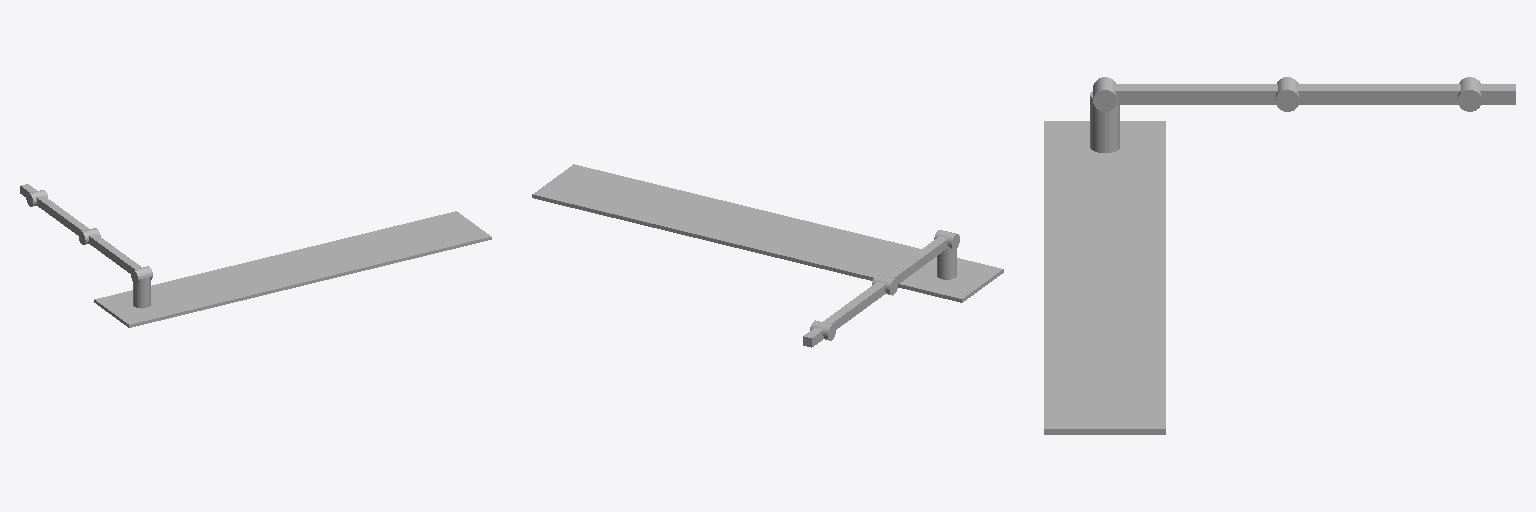
The robot description file, URDF, robot "arm":
<robot name="arm">
	<link name="world"/>
	<link name="base_link">
		<inertial>
			<mass value="1.0"/>
			<origin rpy="0 0 0" xyz="0 0 0.025"/>
			<inertia ixx="0.0027" iyy="0.0027" izz="0.005" ixy="0" ixz="0" iyz="0"/>
		</inertial>	
		<visual>
			<geometry>
				<box size="1.2 0.2 0.01"/>
			</geometry> 
			<material name="silver">
				<color rgba="0.75 0.75 0.75 1"/>
			</material>
			<origin rpy="0 0 0" xyz="0.5 0 0"/> 
		</visual>
		<collision>
			<geometry>
				<box size="1.2 0.2 0.01"/>
			</geometry>
			<origin rpy="0 0 0" xyz="0.6 0 0"/> 
		</collision>
	</link>
	<joint name="fixed" type="fixed">
		<parent link="world"/>
		<child link="base_link"/>
	</joint>
	<link name="prismatic_base_arm">
		<inertial>
			<mass value="1.0"/>
			<origin rpy="0 0 0" xyz="0 0 0.025"/>
			<inertia ixx="0.0027" iyy="0.0027" izz="0.005" ixy="0" ixz="0" iyz="0"/>
		</inertial>	
		<visual>
			<geometry>
				<box size="0.01 0.01 0.01"/>
			</geometry> 
			<material name="silver">
				<color rgba="0.75 0.75 0.75 1"/>
			</material>
			<origin rpy="0 0 0" xyz="0 0 0"/> 
		</visual>
		<collision>
			<geometry>
				<box size="0.01 0.01 0.01"/>
			</geometry>
			<origin rpy="0 0 0" xyz="0 0 0"/> 
		</collision>
	</link>
	<joint name="bottom_prismatic_joint" type="prismatic">
		<limit velocity="1.0" effort="30.0" upper="1" lower="0"/>
		<axis xyz="1 0 0"/>
		<parent link="base_link"/>
		<child link="prismatic_base_arm"/>
		<origin rpy="0 0 0" xyz="0 0 0"/>
	</joint>
	<link name="torso">
		<inertial>
			<mass value="1.0"/>
			<origin rpy="0 0 0" xyz="0 0 0"/>
			<inertia ixx="0.02146" iyy="0.02146" izz="0.00125" ixy="0" ixz="0" iyz="0"/>
		</inertial>	
		<visual>		
			<geometry>
				<cylinder length="0.1" radius="0.025"/>
			</geometry>
			<material name="silver">
				<color rgba="0.75 0.75 0.75 1"/>
			</material>
			<origin rpy="0 0 0" xyz="0 0 -0.05"/>
		</visual>
		<collision>
			<geometry>
				<cylinder length="0.1" radius="0.025"/>
			</geometry>
			<origin rpy="0 0 0" xyz="0 0 -0.05"/>
		</collision>
	</link>
	<joint name="bottom_joint" type="revolute">
		<limit velocity="1.0" effort="30.0" upper="1.571" lower="-1.571"/>
		<axis xyz="0 0 1"/>
		<parent link="prismatic_base_arm"/>
		<child link="torso"/>
		<origin rpy="0 0 1.571" xyz="0 0 0.1"/>
	</joint>
	<link name="lower_arm">
		<inertial>
			<mass value="1.0"/>
			<origin rpy="0 0 0" xyz="0 0 0.05"/>
			<inertia ixx="0.01396" iyy="0.01396" izz="0.00125" ixy="0" ixz="0" iyz="0"/>
		</inertial>	
		<visual>
			<geometry>
				<cylinder length="0.05" radius="0.02"/>
			</geometry>
			<material name="silver"/>
			<origin rpy="0 0 0" xyz="0 0 0"/>
		</visual>
		<collision>
			<geometry>
				<cylinder length="0.1" radius="0.03"/>
			</geometry>
			<origin rpy="0 0 0" xyz="0 0 0"/>
		</collision>
	</link>
	<joint name="lower_arm_joint" type="revolute">
		<axis xyz="0 0 1"/>
		<limit velocity="1.0" effort="30.0" upper="3.14159" lower="0"/>
		<parent link="torso"/>
		<child link="lower_arm"/>
		<origin rpy="1.571 0 0" xyz="0 0 0"/>
	</joint>
	<link name="arm_connect_top">	
		<inertial>
			<mass value="1.0"/>
			<origin rpy="0 0 0" xyz="0 0 0"/>
			<inertia ixx="0.02146" iyy="0.02146" izz="0.00125" ixy="0" ixz="0" iyz="0"/>
		</inertial>	
		<visual>		
			<geometry>
				<box size="0.3 0.025 0.025"/>
			</geometry>
			<material name="silver">
				<color rgba="0.75 0.75 0.75 1"/>
			</material>
			<origin rpy="0 0 0" xyz="0.15 0 0"/>
		</visual>
		<collision>
			<geometry>
				<box size="0.3 0.025 0.025"/>
			</geometry>
			<origin rpy="0 0 0" xyz="0.15 0 0.3"/>
		</collision>
	</link>
	<joint name="link_12_arm_connect" type="fixed">
		<parent link="lower_arm"/>
		<child link="arm_connect_top"/>
	</joint>
	<link name="upper_arm">
		<inertial>
			<mass value="1.0"/>
			<origin rpy="0 0 0" xyz="0 0 0.05"/>
			<inertia ixx="0.01396" iyy="0.01396" izz="0.00125" ixy="0" ixz="0" iyz="0"/>
		</inertial>	
		<visual>
			<geometry>
				<cylinder length="0.05" radius="0.02"/>
			</geometry>
			<material name="silver"/>
			<origin rpy="0 0 0" xyz="0 0 0"/>
		</visual>
		<collision>
			<geometry>
				<cylinder length="0.05" radius="0.02"/>
			</geometry>
			<origin rpy="0 0 0" xyz="0 0 0"/>
		</collision>
	</link>
	<joint name="upper_arm_joint" type="revolute">
		<axis xyz="0 0 1"/>
		<limit velocity="1.0" effort="30.0" upper="1.571" lower="-1.571"/>
		<parent link="arm_connect_top"/>
		<child link="upper_arm"/>
		<origin rpy="0 0 0" xyz="0.3 0 0"/>
	</joint>
	<link name="arm_connect_hand">	
		<inertial>
			<mass value="1.0"/>
			<origin rpy="0 0 0" xyz="0 0 0"/>
			<inertia ixx="0.02146" iyy="0.02146" izz="0.00125" ixy="0" ixz="0" iyz="0"/>
		</inertial>	
		<visual>		
			<geometry>
				<box size="0.3 0.025 0.025"/>
			</geometry>
			<material name="silver">
				<color rgba="0.75 0.75 0.75 1"/>
			</material>
			<origin rpy="0 0 0" xyz="0.15 0 0"/>
		</visual>
		<collision>
			<geometry>
				<box size="0.3 0.025 0.025"/>
			</geometry>
			<origin rpy="0 0 0" xyz="0.15 0 0"/>
		</collision>
	</link>
	<joint name="hand_arm_connect_joint" type="fixed">
		<parent link="upper_arm"/>
		<child link="arm_connect_hand"/>
	</joint>
	<link name="wrist_hand">
		<inertial>
			<mass value="1.0"/>
			<origin rpy="0 0 0" xyz="0 0 0.05"/>
			<inertia ixx="0.01396" iyy="0.01396" izz="0.00125" ixy="0" ixz="0" iyz="0"/>
		</inertial>	
		<visual>
			<geometry>
				<cylinder length="0.05" radius="0.02"/>
			</geometry>
			<material name="silver"/>
			<origin rpy="0 0 0" xyz="0.3 0 0"/>
		</visual>
		<collision>
			<geometry>
				<cylinder length="0.05" radius="0.02"/>
			</geometry>
			<origin rpy="0 0 0" xyz="0.3 0 0"/>
		</collision>
	</link>
	<joint name="wrist_arm_joint" type="fixed">
		<parent link="arm_connect_hand"/>
		<child link="wrist_hand"/>
	</joint>
	<link name="hand_up">	
		<inertial>
			<mass value="1.0"/>
			<origin rpy="0 0 0" xyz="0 0 0"/>
			<inertia ixx="0.02146" iyy="0.02146" izz="0.00125" ixy="0" ixz="0" iyz="0"/>
		</inertial>	
		<visual>		
			<geometry>
				<box size="0.075 0.025 0.025"/>
			</geometry>
			<material name="silver">
				<color rgba="0.75 0.75 0.75 1"/>
			</material>
			<origin rpy="0 0 0" xyz="0.0375 0 0"/>
		</visual>
		<collision>
			<geometry>
				<box size="0.075 0.025 0.025"/>
			</geometry>
			<origin rpy="0 0 0" xyz="0.0375 0 0"/>
		</collision>
	</link>
	<joint name="joint_wrist_revolute" type="revolute">
		<axis xyz="0 0 1"/>
		<limit velocity="1.0" effort="30.0" upper="1.571" lower="-1.571"/>
		<parent link="arm_connect_hand"/>
		<child link="hand_up"/>
		<origin rpy="0 0 0" xyz="0.3 0 0"/>
	</joint>
</robot>

--- Render facts (derived) ---
3 views of the same robot in one strip: view 1: azimuth 30°, elevation 25°; view 2: azimuth 150°, elevation 25°; view 3: azimuth 270°, elevation 25° (orthographic).
Robot: arm — 10 links, 9 joints (4 revolute, 1 prismatic, 4 fixed); root link world; default pose: all joints at 0.
Links seen in each view (by area): view 1: base_link, arm_connect_top, arm_connect_hand; view 2: base_link, arm_connect_hand, arm_connect_top, torso; view 3: base_link, arm_connect_hand, arm_connect_top, torso, hand_up, lower_arm, upper_arm, wrist_hand.
Boxes of the visible links, x1,y1,x2,y2 form: base_link: [94, 211, 491, 327]; arm_connect_top: [89, 234, 141, 273]; arm_connect_hand: [36, 195, 88, 235]; base_link: [532, 164, 1003, 302]; arm_connect_hand: [823, 282, 885, 329]; arm_connect_top: [885, 236, 947, 283]; torso: [937, 244, 956, 279]; base_link: [1044, 121, 1165, 434]; arm_connect_hand: [1297, 84, 1460, 104]; arm_connect_top: [1115, 84, 1277, 104]; torso: [1090, 91, 1119, 152]; hand_up: [1479, 84, 1515, 104]; lower_arm: [1093, 77, 1116, 111]; upper_arm: [1275, 77, 1299, 111]; wrist_hand: [1458, 77, 1481, 111].
Bounding box of the posed robot: 1.2 × 0.775 × 0.125 m (x, y, z).
Geometry: primitives only (box / cylinder / sphere), no mesh files.
